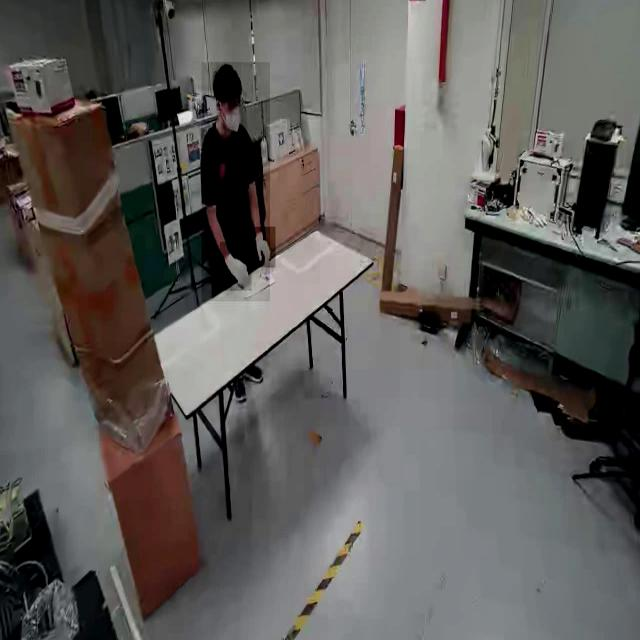face_mask: (221, 92, 247, 142)
hand_glove: (220, 242, 252, 292), (251, 226, 275, 268)
head_nohelmet: (212, 61, 241, 89)
person: (201, 62, 270, 302)
